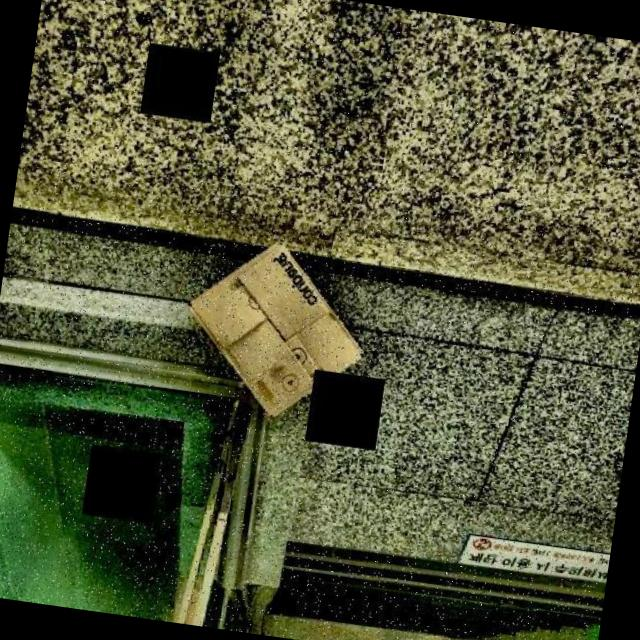box: (156, 209, 387, 444)
